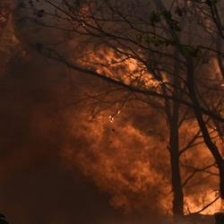fire: (96, 42, 166, 93), (189, 189, 224, 217)
smoke: (2, 97, 156, 210)
